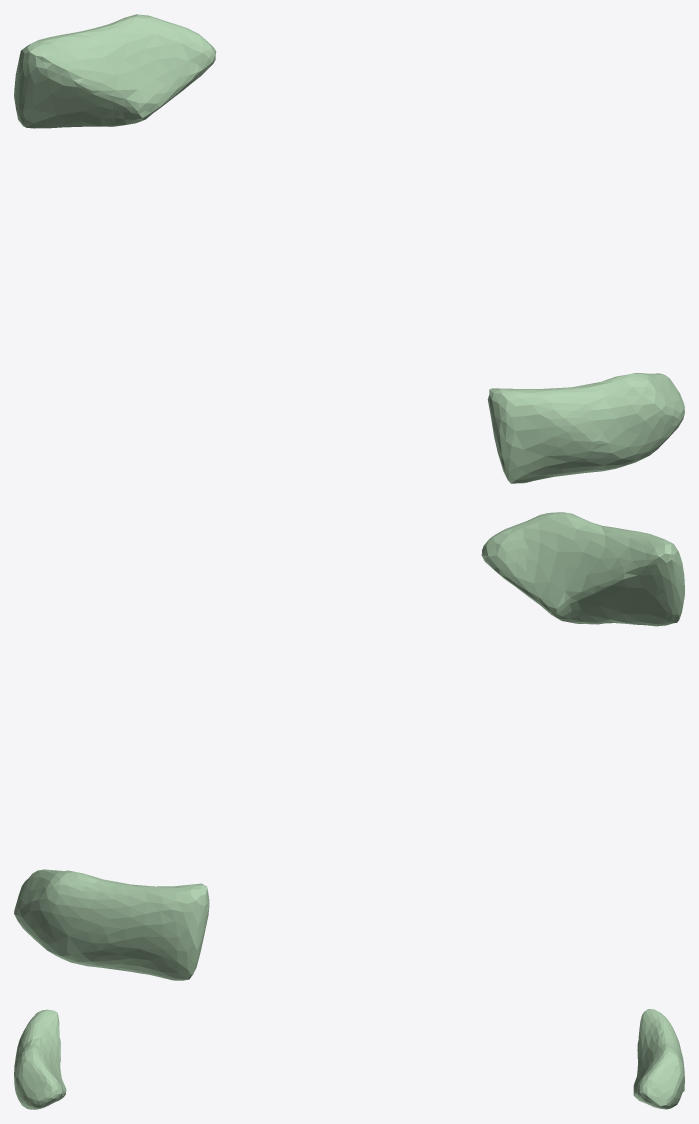
3 views of the same model, one above another, from view 1: azimuth 30°, elevation 25°; view 2: azimuth 150°, elevation 25°; view 3: azimuth 270°, elevation 25° (orthographic). The views are drawn at different scales.
Visible parts, largest first — view 1: 311.obj; view 2: 311.obj; view 3: 311.obj.
Part boxes in pixels (x1=…): 311.obj: x1=14, y1=14, x2=684, y2=483; 311.obj: x1=14, y1=512, x2=684, y2=980; 311.obj: x1=14, y1=1009, x2=684, y2=1109.
Size of the model in its own units: 1568 by 785 by 7401.
